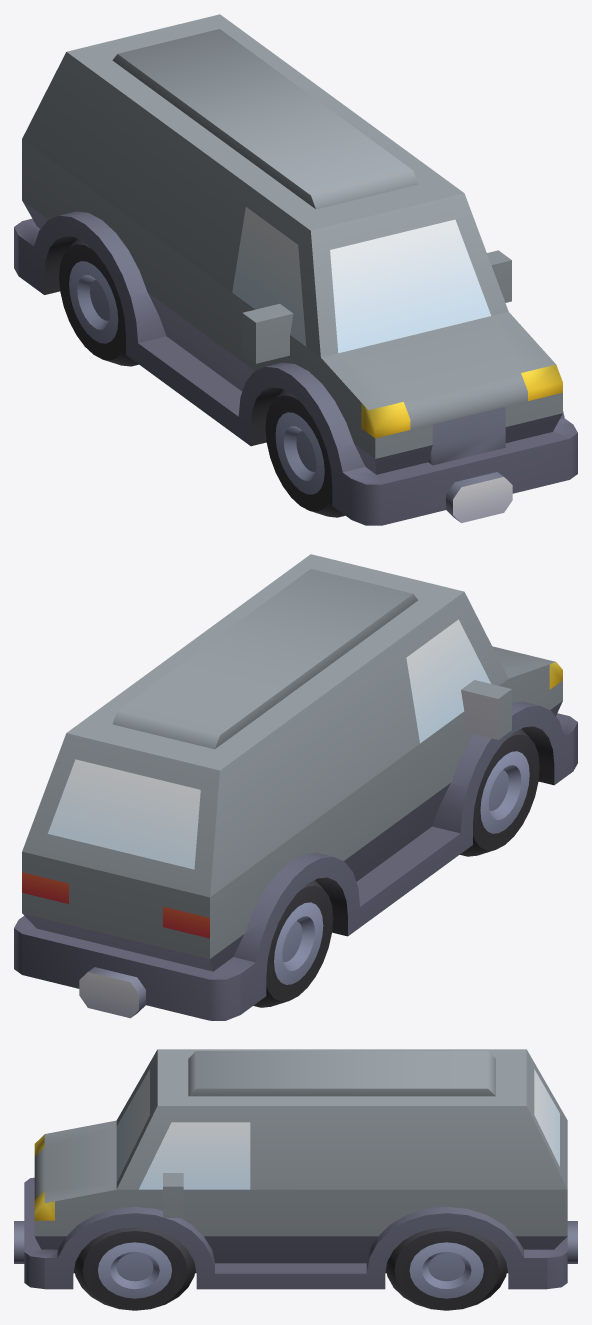
File: van-silver.glb
3 renders of one model, top to bottom at view 1: azimuth 30°, elevation 25°; view 2: azimuth 150°, elevation 25°; view 3: azimuth 270°, elevation 25°, orthographic. The views are drawn at different scales.
Parts seen in each view (by area): view 1: van; view 2: van; view 3: van.
Part boxes in pixels (x1,y1,x2,y2): van: (14, 14, 577, 525); van: (14, 554, 577, 1020); van: (14, 1049, 577, 1310).
Size of the model in its own units: 1.98 by 2.05 by 5.
Materials: 1 (1 with a texture image).
